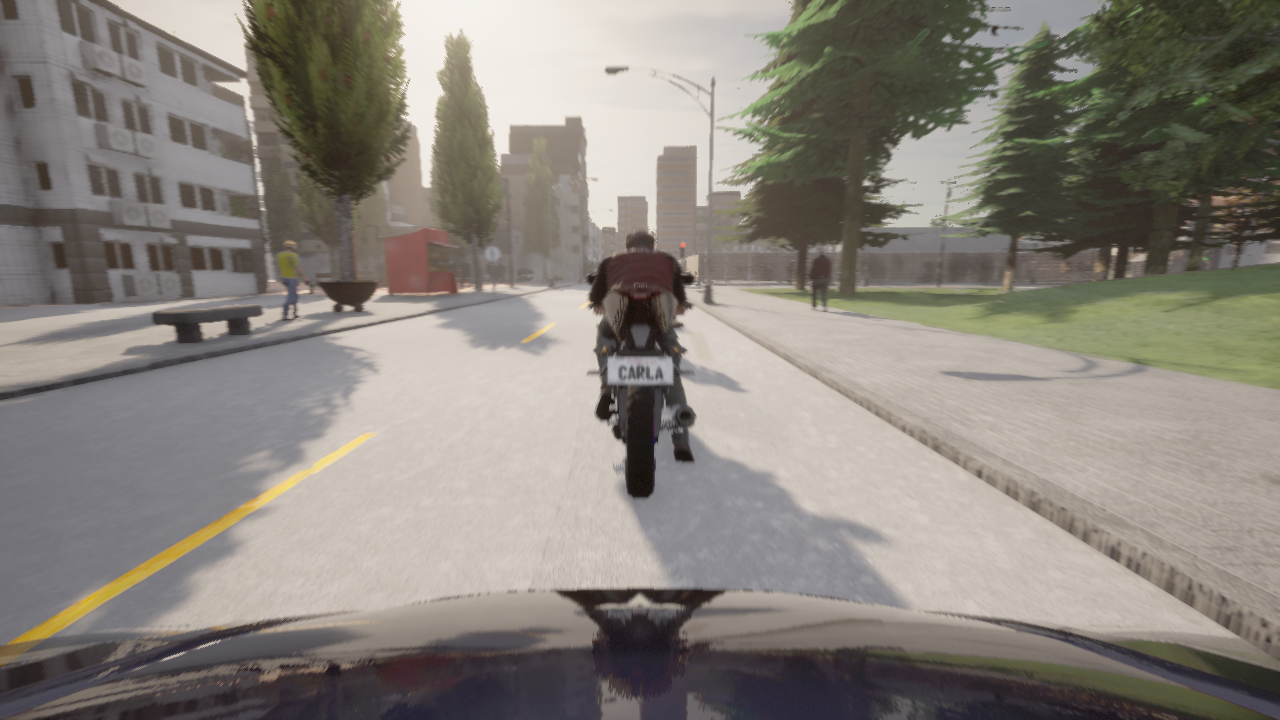cyclist: (0, 588, 1279, 719), (586, 273, 695, 497), (741, 271, 764, 278), (719, 267, 733, 278), (772, 270, 786, 278), (747, 272, 759, 278)
pedestrian: (277, 240, 308, 320), (806, 249, 830, 311)
